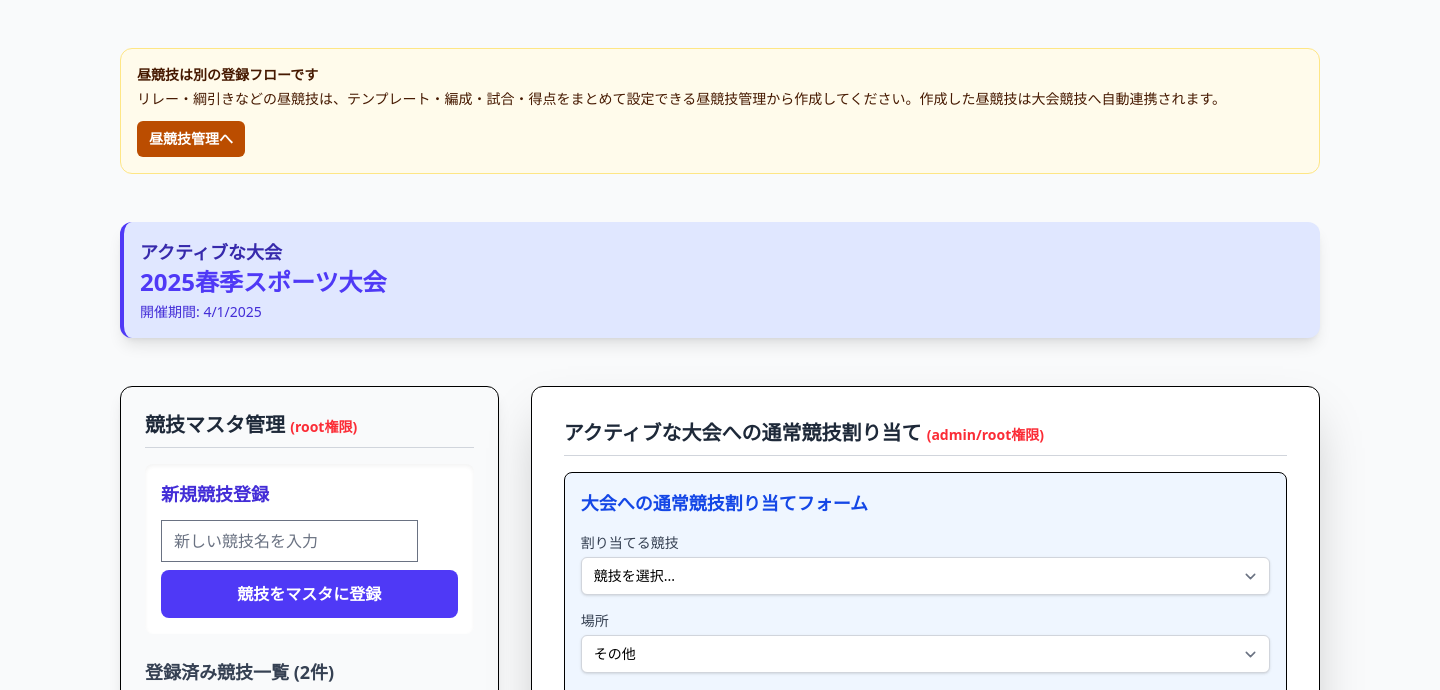
Test: Sport Management Page › 競技を大会に割り当てるとPOST送信して割り当て済み一覧に表示されること
Select "バスケットボール" in the dropdown labelled "割り当てる競技" at (925, 576), box [581, 557, 1270, 595]
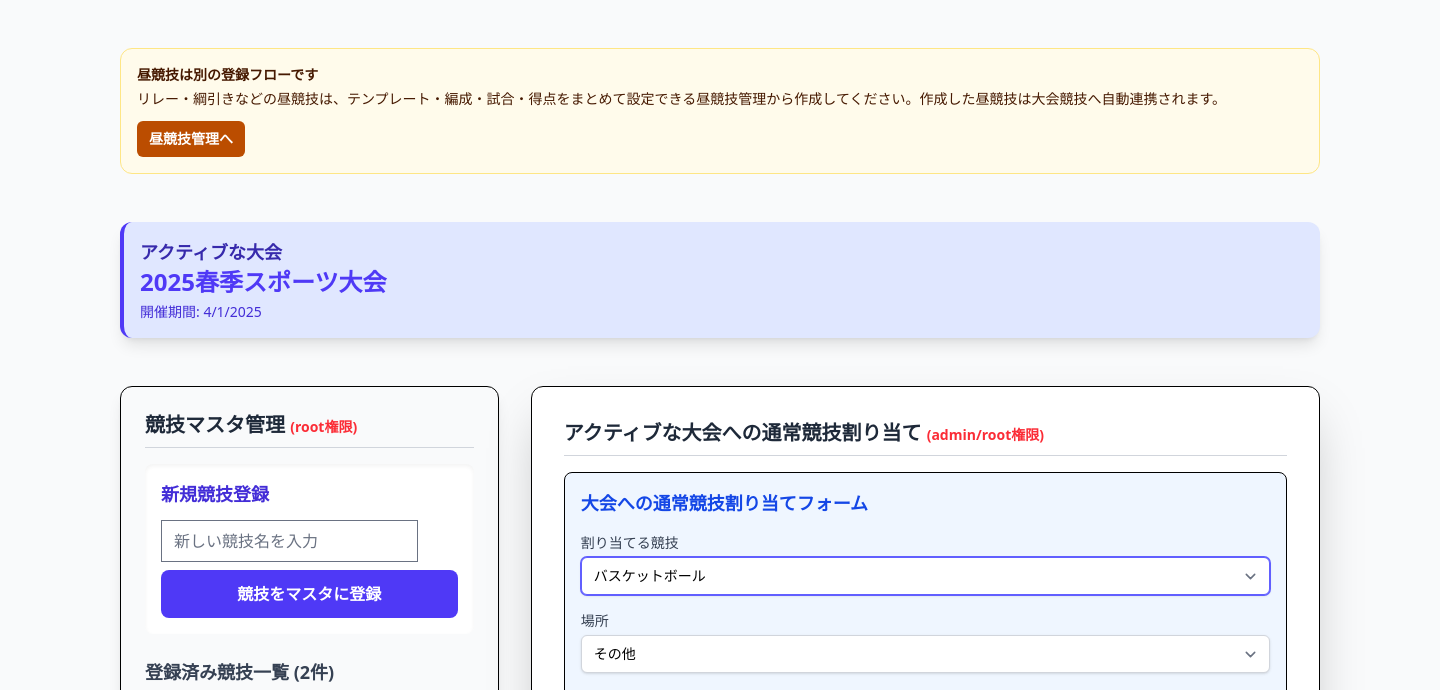
Select "gym1" in the dropdown labelled "場所" at (925, 654), box [581, 635, 1270, 673]
(page scrolled)
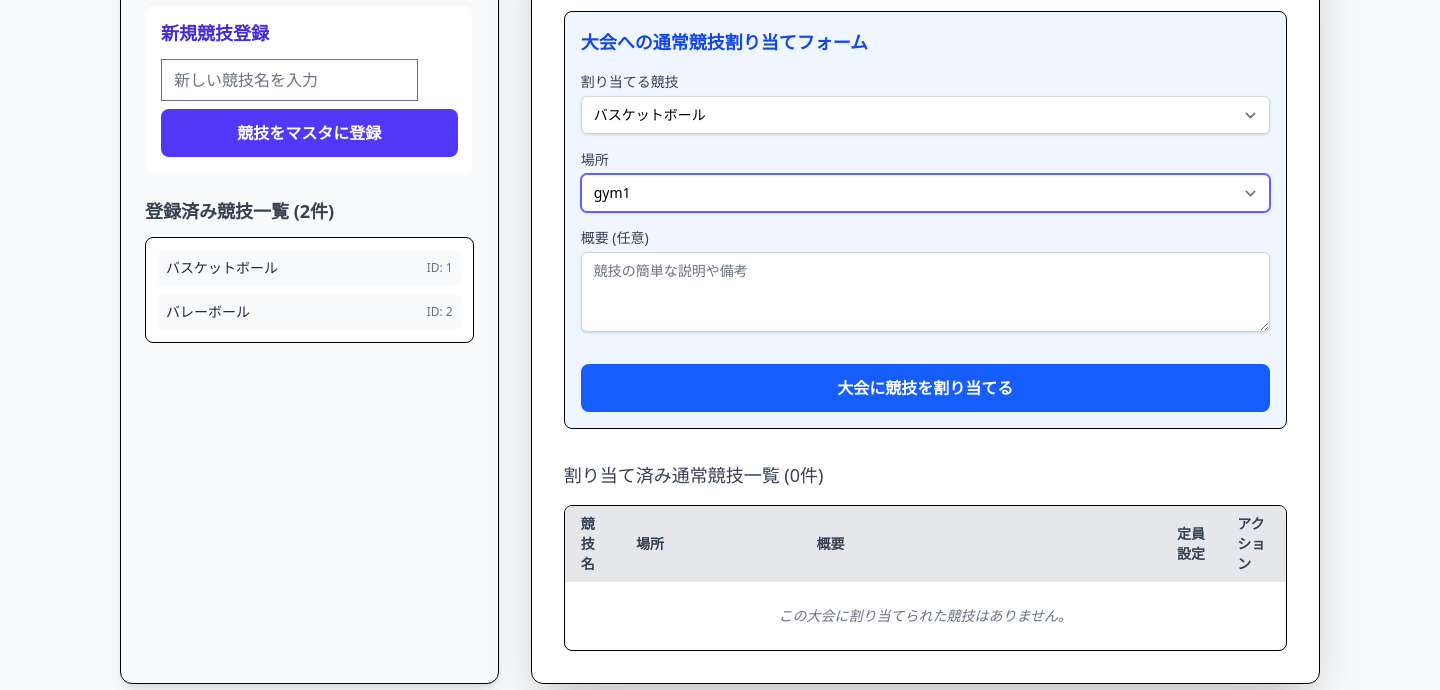
Type "屋内メイン競技" into the text box labelled "概要 (任意)" at (925, 292), box [581, 252, 1270, 332]
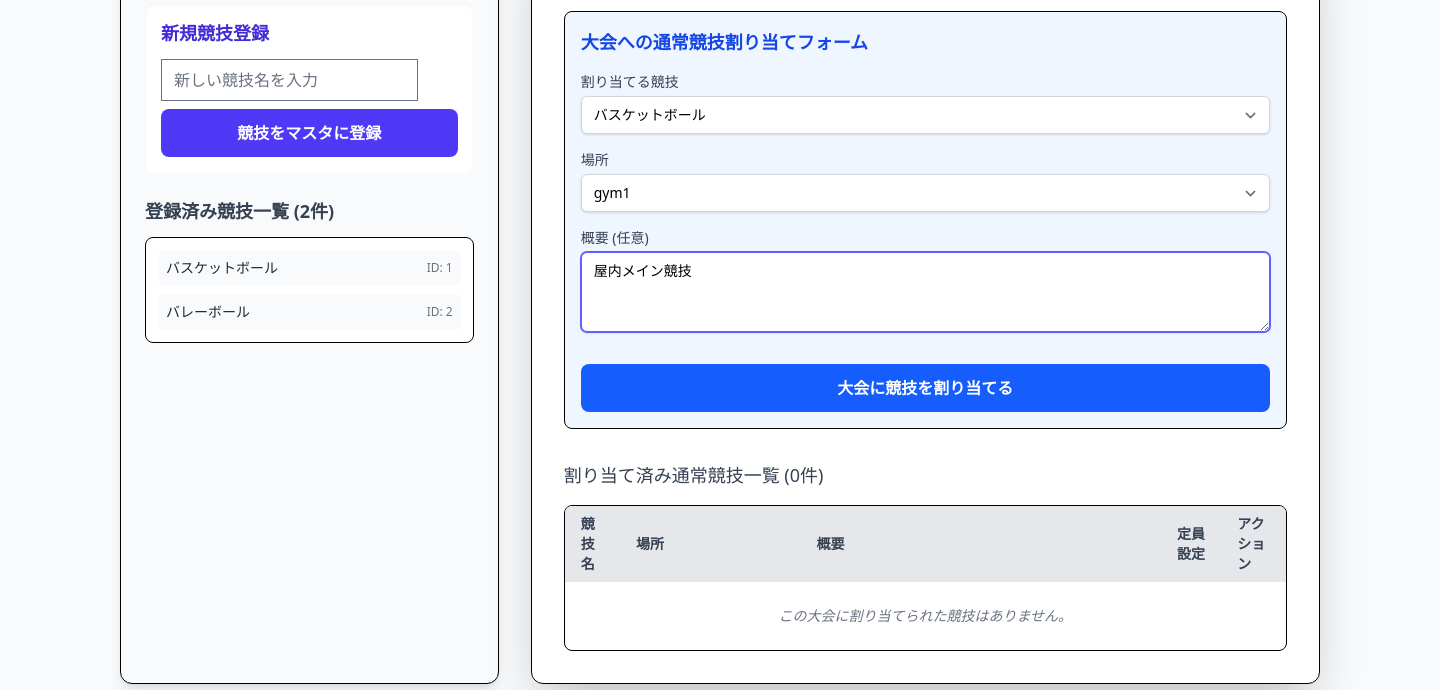
Click the button "大会に競技を割り当てる" at (925, 388), box [581, 364, 1270, 412]
(page scrolled)
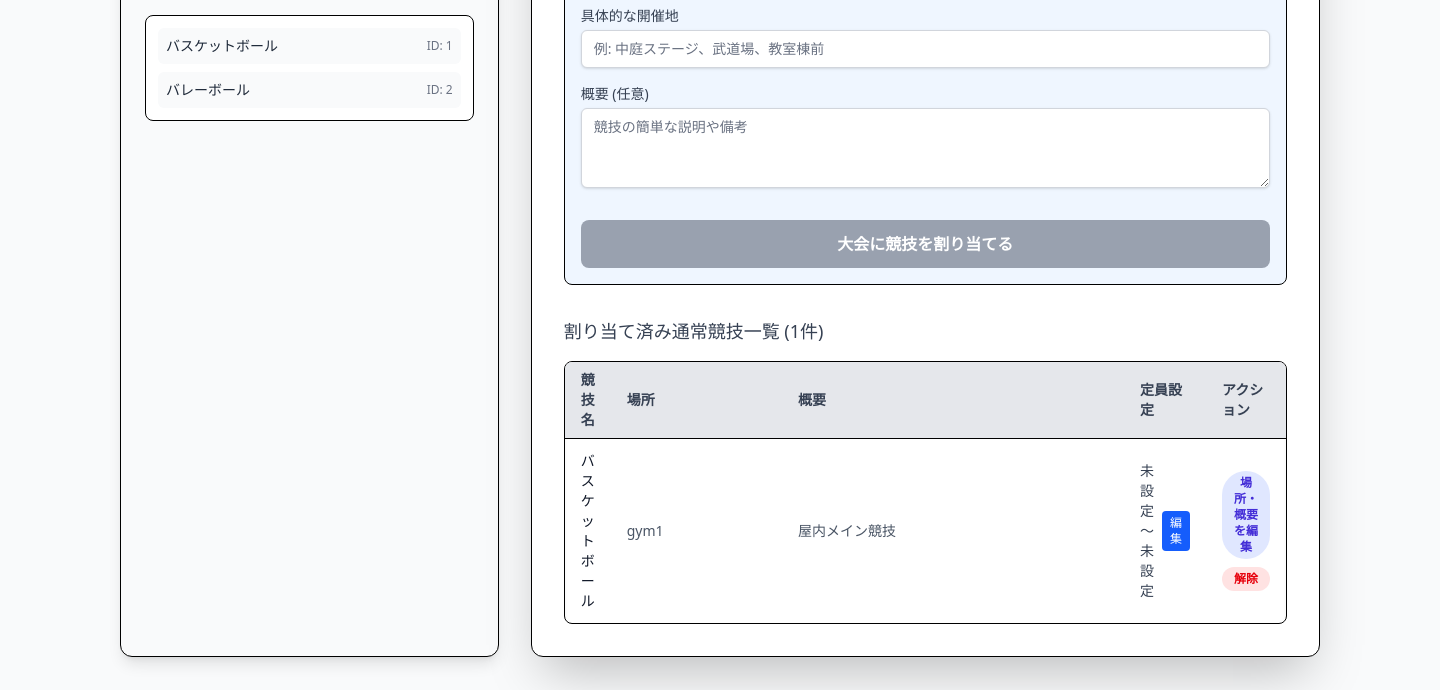
Check: the cell "バスケットボール" is shown, box [565, 438, 611, 623]
Check: the cell "gym1" is shown, box [611, 438, 782, 623]
